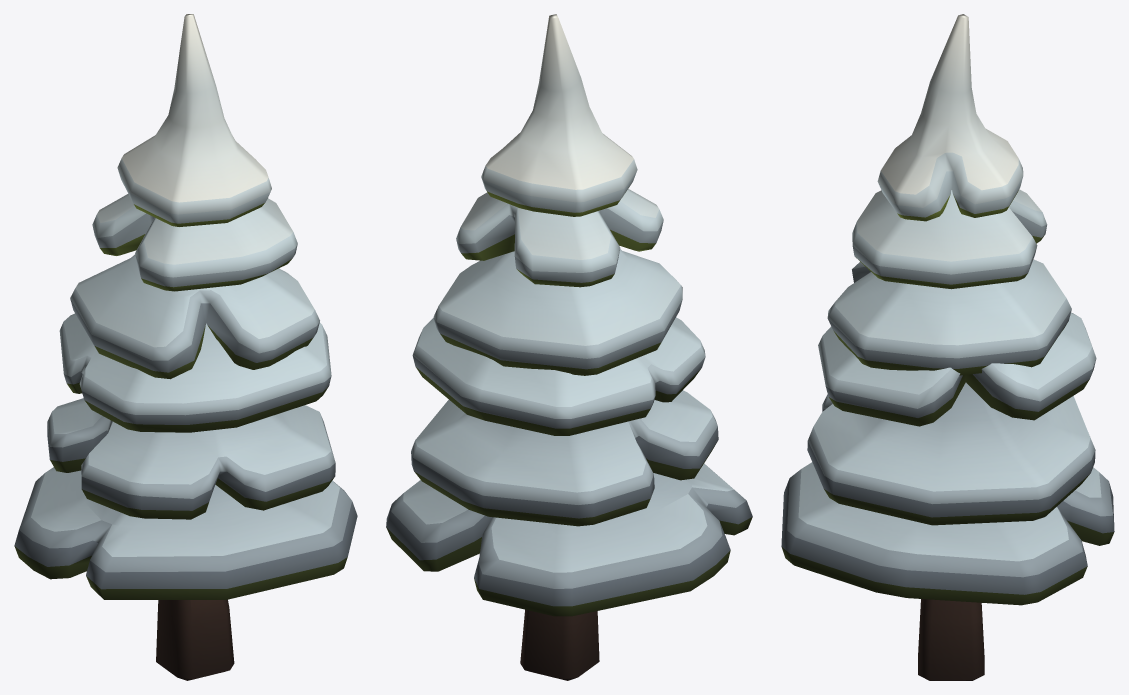
Rendered from pine_tree_col1_07_snow.fbx.
The picture shows the model from 3 angles, left to right: view 1: azimuth 30°, elevation 25°; view 2: azimuth 150°, elevation 25°; view 3: azimuth 270°, elevation 25°; orthographic projection.
Parts seen in each view (by area): view 1: tree_pine_col1_07_snow; view 2: tree_pine_col1_07_snow; view 3: tree_pine_col1_07_snow.
Part boxes in pixels (x1,y1,x2,y2): tree_pine_col1_07_snow: (14, 14, 357, 680); tree_pine_col1_07_snow: (386, 14, 752, 680); tree_pine_col1_07_snow: (781, 14, 1114, 680).
Size of the model in its own units: 495 by 1040 by 478.
Materials: 1 (1 with a texture image).
